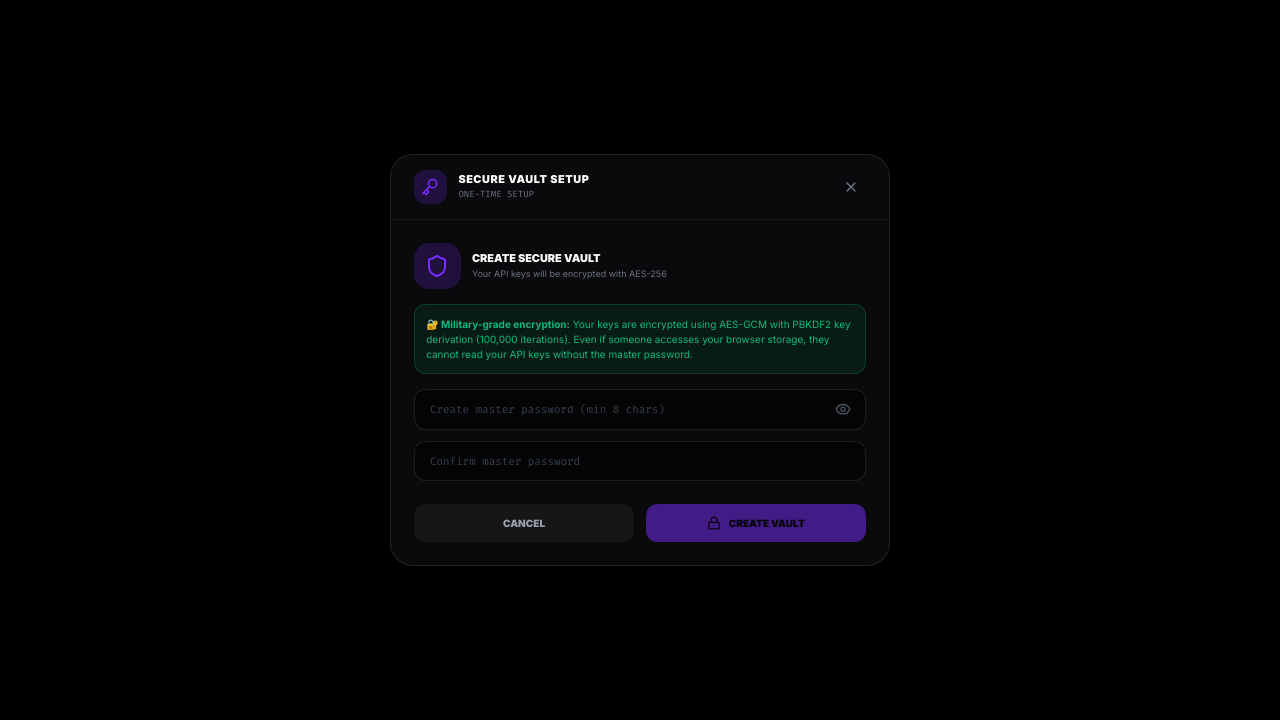
Test: ApiKeyModal › shows error when passwords do not match
The width and height of the screenshot is (1280, 720).
Type "longpassword123" into the password field labelled "Create master password" at [640, 410], box [414, 390, 866, 430]
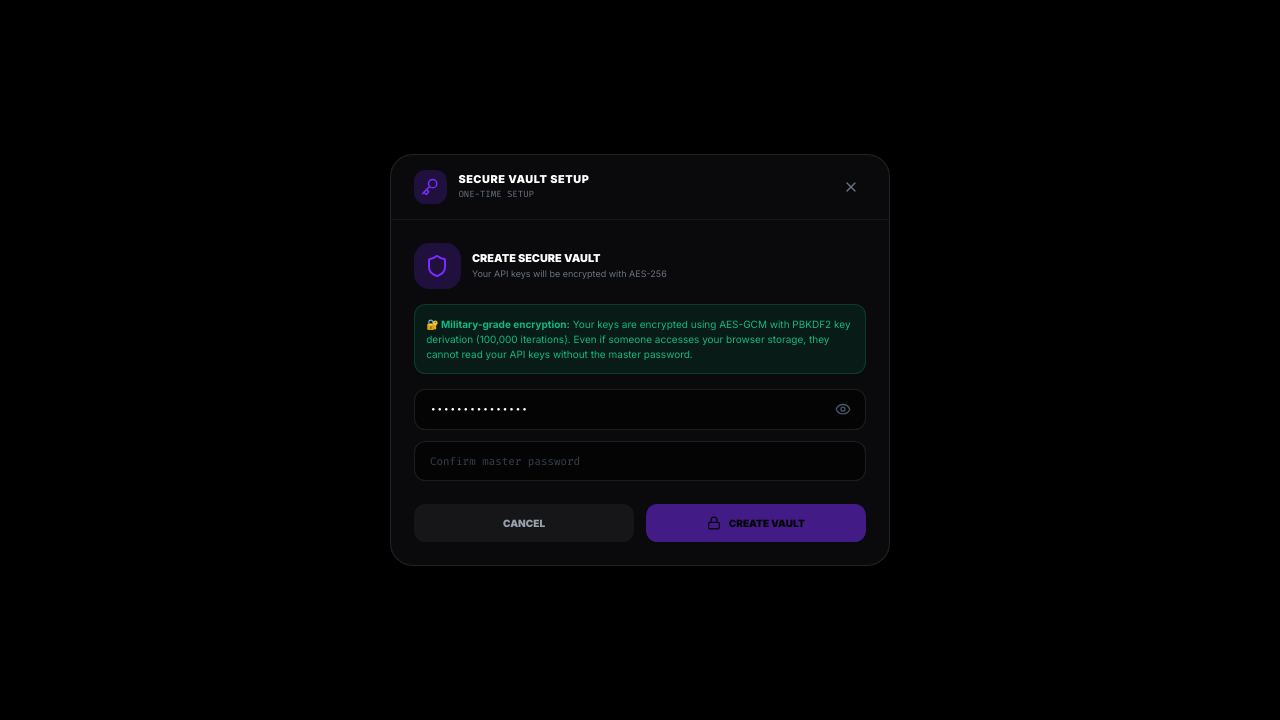
Type "differentpassword" into the password field labelled "Confirm master password" at [640, 461], box [414, 441, 866, 482]
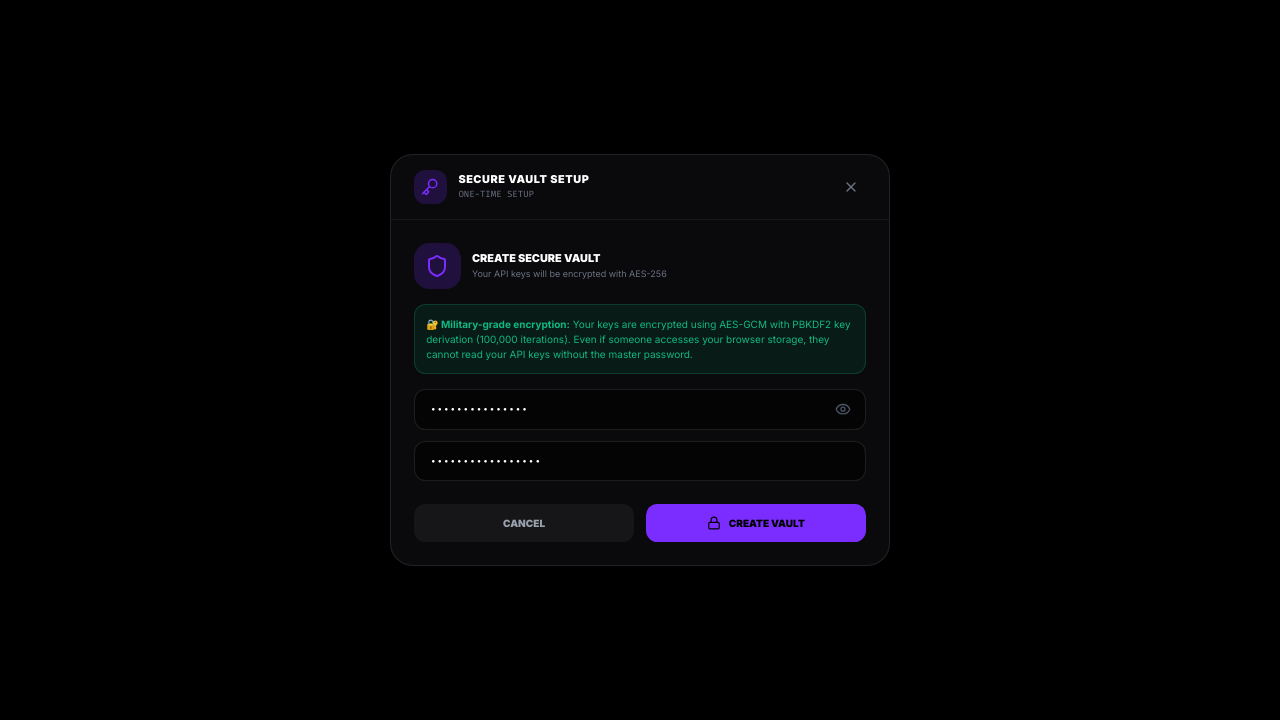
Click the button "Create Vault" at [756, 523], box [646, 504, 866, 542]
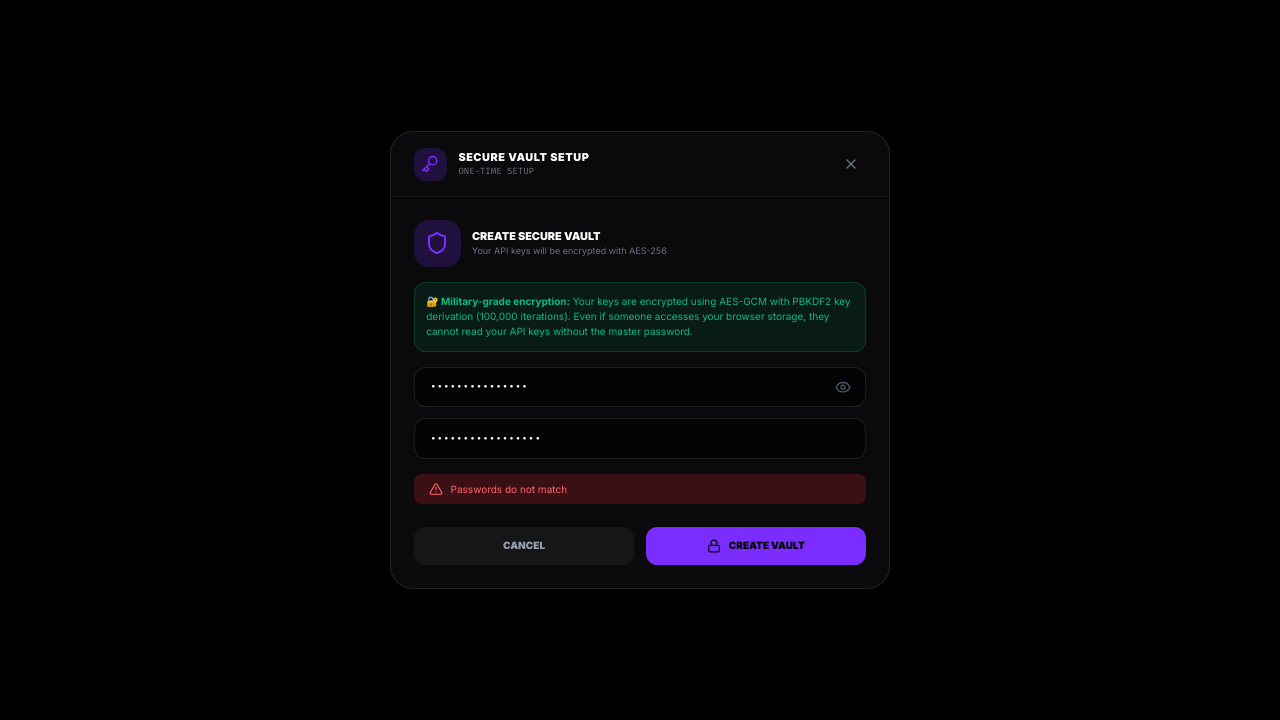
Result: the text "Passwords do not match" is shown at [414, 474, 866, 504]
